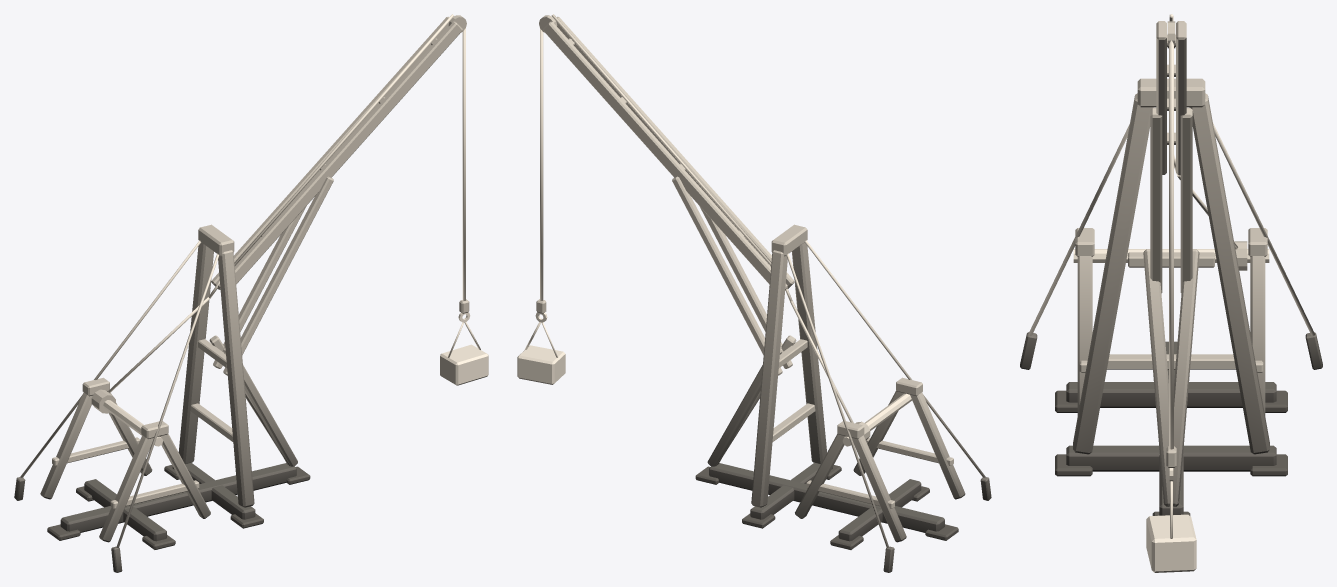
The model's file is SM_VK_Prop_TreadwheelCrane.fbx.
The picture shows the model from 3 angles, left to right: view 1: azimuth 30°, elevation 25°; view 2: azimuth 150°, elevation 25°; view 3: azimuth 270°, elevation 25°; orthographic projection. The views are drawn at different scales.
Visible parts, largest first — view 1: SM_VK_Prop_TreadwheelCrane.001; view 2: SM_VK_Prop_TreadwheelCrane.001; view 3: SM_VK_Prop_TreadwheelCrane.001.
Boxes of the visible parts, bbox=[...] form: SM_VK_Prop_TreadwheelCrane.001: bbox=[14, 14, 488, 572]; SM_VK_Prop_TreadwheelCrane.001: bbox=[517, 14, 991, 572]; SM_VK_Prop_TreadwheelCrane.001: bbox=[1020, 14, 1322, 572].
Bounding box in the file's own units: 9.74 × 9.26 × 4.03.
